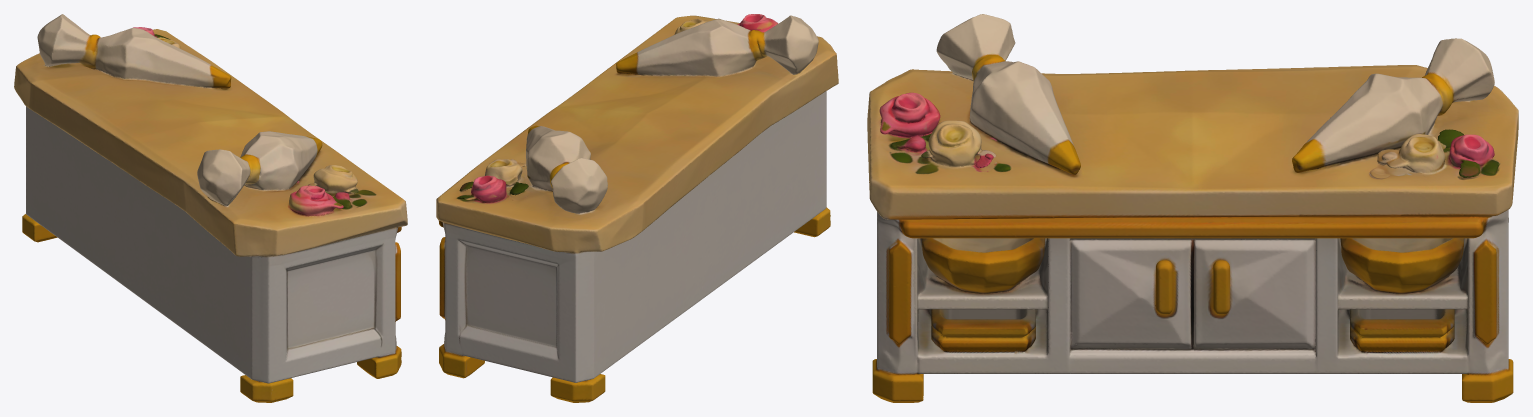
The model's file is station boda 3d model.glb.
3 renders of one model, left to right at view 1: azimuth 30°, elevation 25°; view 2: azimuth 150°, elevation 25°; view 3: azimuth 270°, elevation 25°, orthographic. The views are drawn at different scales.
Visible parts, largest first — view 1: tripo_node_73444186-ffa5-43d0-b507-32611770ae13; view 2: tripo_node_73444186-ffa5-43d0-b507-32611770ae13; view 3: tripo_node_73444186-ffa5-43d0-b507-32611770ae13.
Boxes of the visible parts, x1,y1,x2,y2 form: tripo_node_73444186-ffa5-43d0-b507-32611770ae13: (14, 14, 407, 402); tripo_node_73444186-ffa5-43d0-b507-32611770ae13: (436, 14, 838, 402); tripo_node_73444186-ffa5-43d0-b507-32611770ae13: (867, 14, 1518, 402).
Bounding box in the file's own units: 0.4066 × 0.5082 × 1.
Materials: 1 (1 with a texture image).
